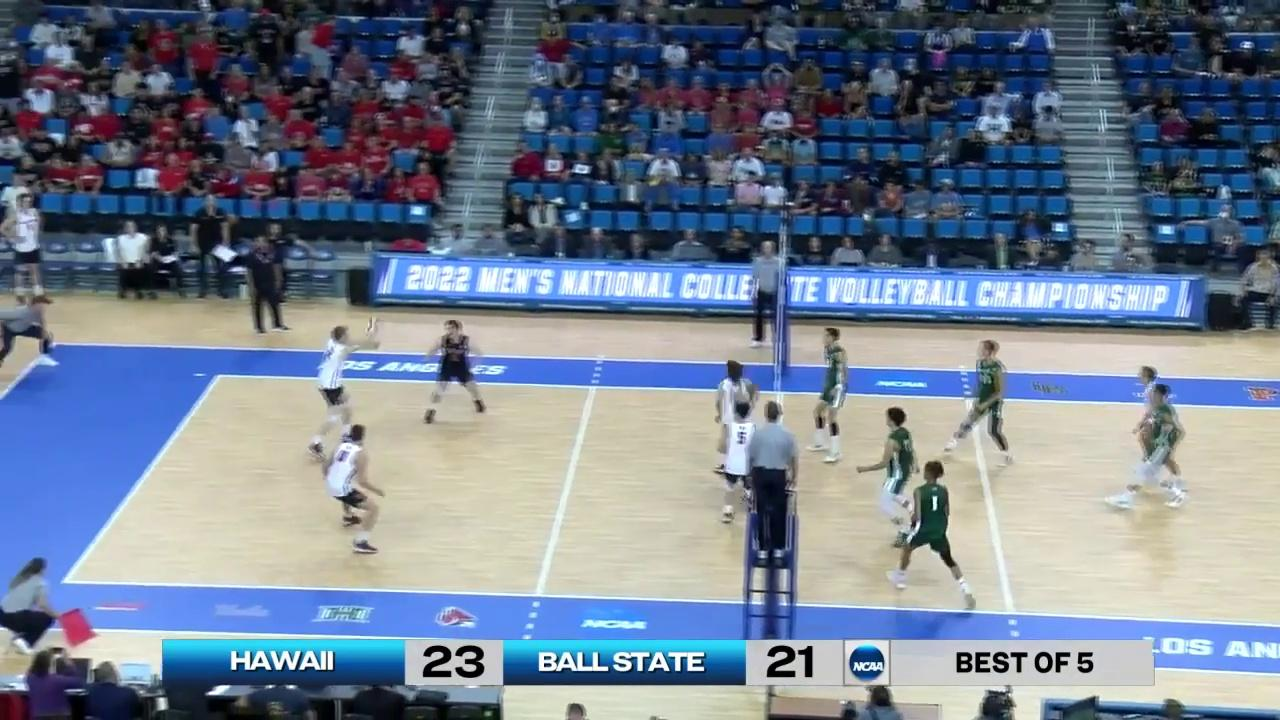player: (888, 460, 976, 608), (942, 340, 1020, 464), (1108, 386, 1181, 514), (857, 407, 919, 554), (327, 423, 389, 553), (1129, 366, 1188, 491), (310, 326, 365, 456), (418, 319, 487, 422), (709, 360, 760, 484), (807, 328, 848, 462), (723, 403, 763, 525)
refree: (748, 401, 795, 559), (0, 295, 61, 369), (751, 241, 790, 346)
